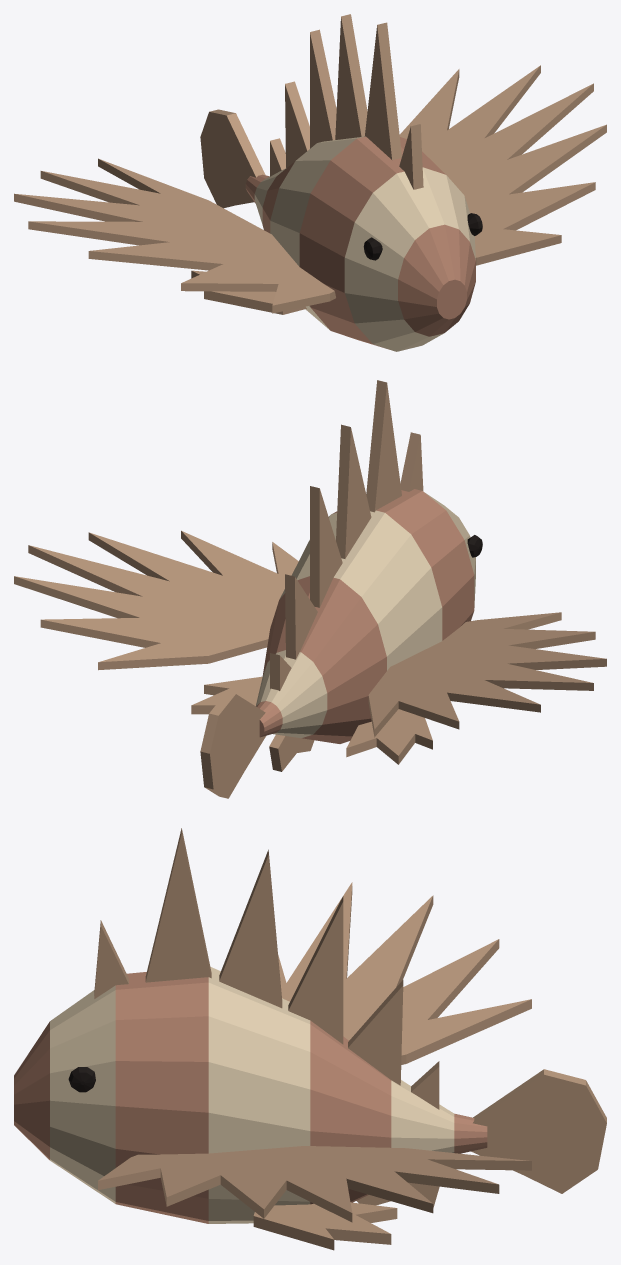
The picture shows the model from 3 angles, top to bottom: view 1: azimuth 30°, elevation 25°; view 2: azimuth 150°, elevation 25°; view 3: azimuth 270°, elevation 25°; orthographic projection. The views are drawn at different scales.
Visible parts, largest first — view 1: WholeShortDeepHeadCompressedTrunkAndNarrowTailStock, WholeRadiatingScallopedPectoralFan0, WholeRadiatingScallopedPectoralFan1, WholeTallFiniteDorsalComb, WholeRoundedVerticalCaudalFan, WholeBroadLowerPelvicFin0; view 2: WholeShortDeepHeadCompressedTrunkAndNarrowTailStock, WholeRadiatingScallopedPectoralFan1, WholeRadiatingScallopedPectoralFan0, WholeTallFiniteDorsalComb, WholeRoundedVerticalCaudalFan, WholeBroadLowerPelvicFin0, WholeBroadLowerPelvicFin1, WholeShortPosteriorAnalFin; view 3: WholeShortDeepHeadCompressedTrunkAndNarrowTailStock, WholeTallFiniteDorsalComb, WholeRadiatingScallopedPectoralFan1, WholeRadiatingScallopedPectoralFan0, WholeRoundedVerticalCaudalFan, WholeBroadLowerPelvicFin1, WholeSmallLionfishEye1.
Part boxes in pixels (x1,y1,x2,y2): WholeShortDeepHeadCompressedTrunkAndNarrowTailStock: [245, 136, 475, 351]; WholeRadiatingScallopedPectoralFan0: [14, 158, 335, 313]; WholeRadiatingScallopedPectoralFan1: [399, 65, 606, 265]; WholeTallFiniteDorsalComb: [270, 14, 423, 189]; WholeRoundedVerticalCaudalFan: [200, 109, 265, 208]; WholeBroadLowerPelvicFin0: [191, 270, 306, 314]; WholeShortDeepHeadCompressedTrunkAndNarrowTailStock: [256, 489, 475, 743]; WholeRadiatingScallopedPectoralFan1: [14, 530, 298, 670]; WholeRadiatingScallopedPectoralFan0: [368, 612, 606, 737]; WholeTallFiniteDorsalComb: [270, 380, 423, 690]; WholeRoundedVerticalCaudalFan: [200, 691, 265, 798]; WholeBroadLowerPelvicFin0: [346, 709, 432, 764]; WholeBroadLowerPelvicFin1: [191, 676, 262, 714]; WholeShortPosteriorAnalFin: [269, 734, 314, 771]; WholeShortDeepHeadCompressedTrunkAndNarrowTailStock: [14, 967, 487, 1223]; WholeTallFiniteDorsalComb: [94, 828, 439, 1109]; WholeRadiatingScallopedPectoralFan1: [98, 1146, 531, 1222]; WholeRadiatingScallopedPectoralFan0: [278, 882, 531, 1064]; WholeRoundedVerticalCaudalFan: [471, 1069, 606, 1193]; WholeBroadLowerPelvicFin1: [253, 1202, 397, 1250]; WholeSmallLionfishEye1: [68, 1067, 95, 1092].
Size of the model in its own units: 2.62 by 1.42 by 1.98.
